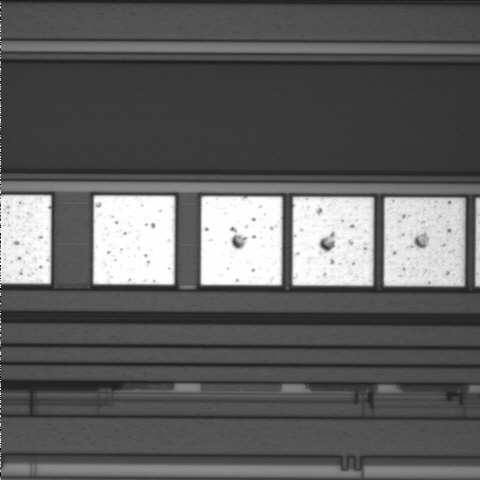pad: (93, 196, 175, 285), (292, 197, 374, 286), (201, 196, 282, 285), (384, 198, 465, 286)
